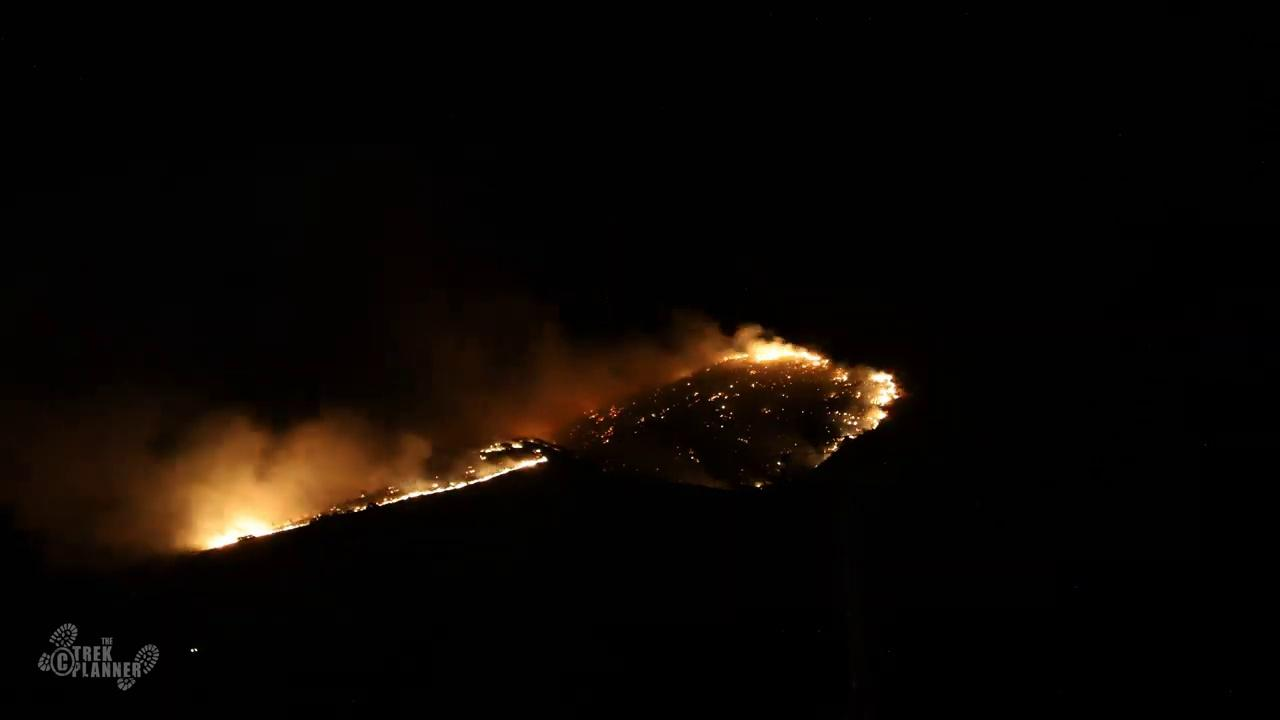fire: (184, 510, 288, 548), (730, 334, 820, 366), (398, 482, 460, 506), (486, 454, 530, 474)
